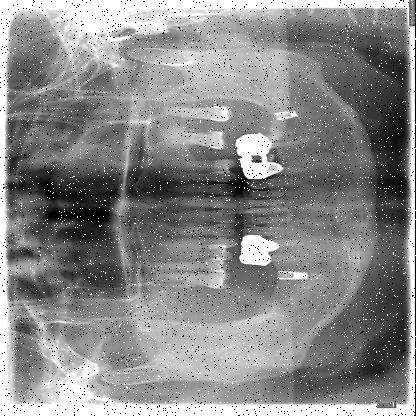Bicon: (274, 268, 313, 283), (270, 106, 305, 122)
